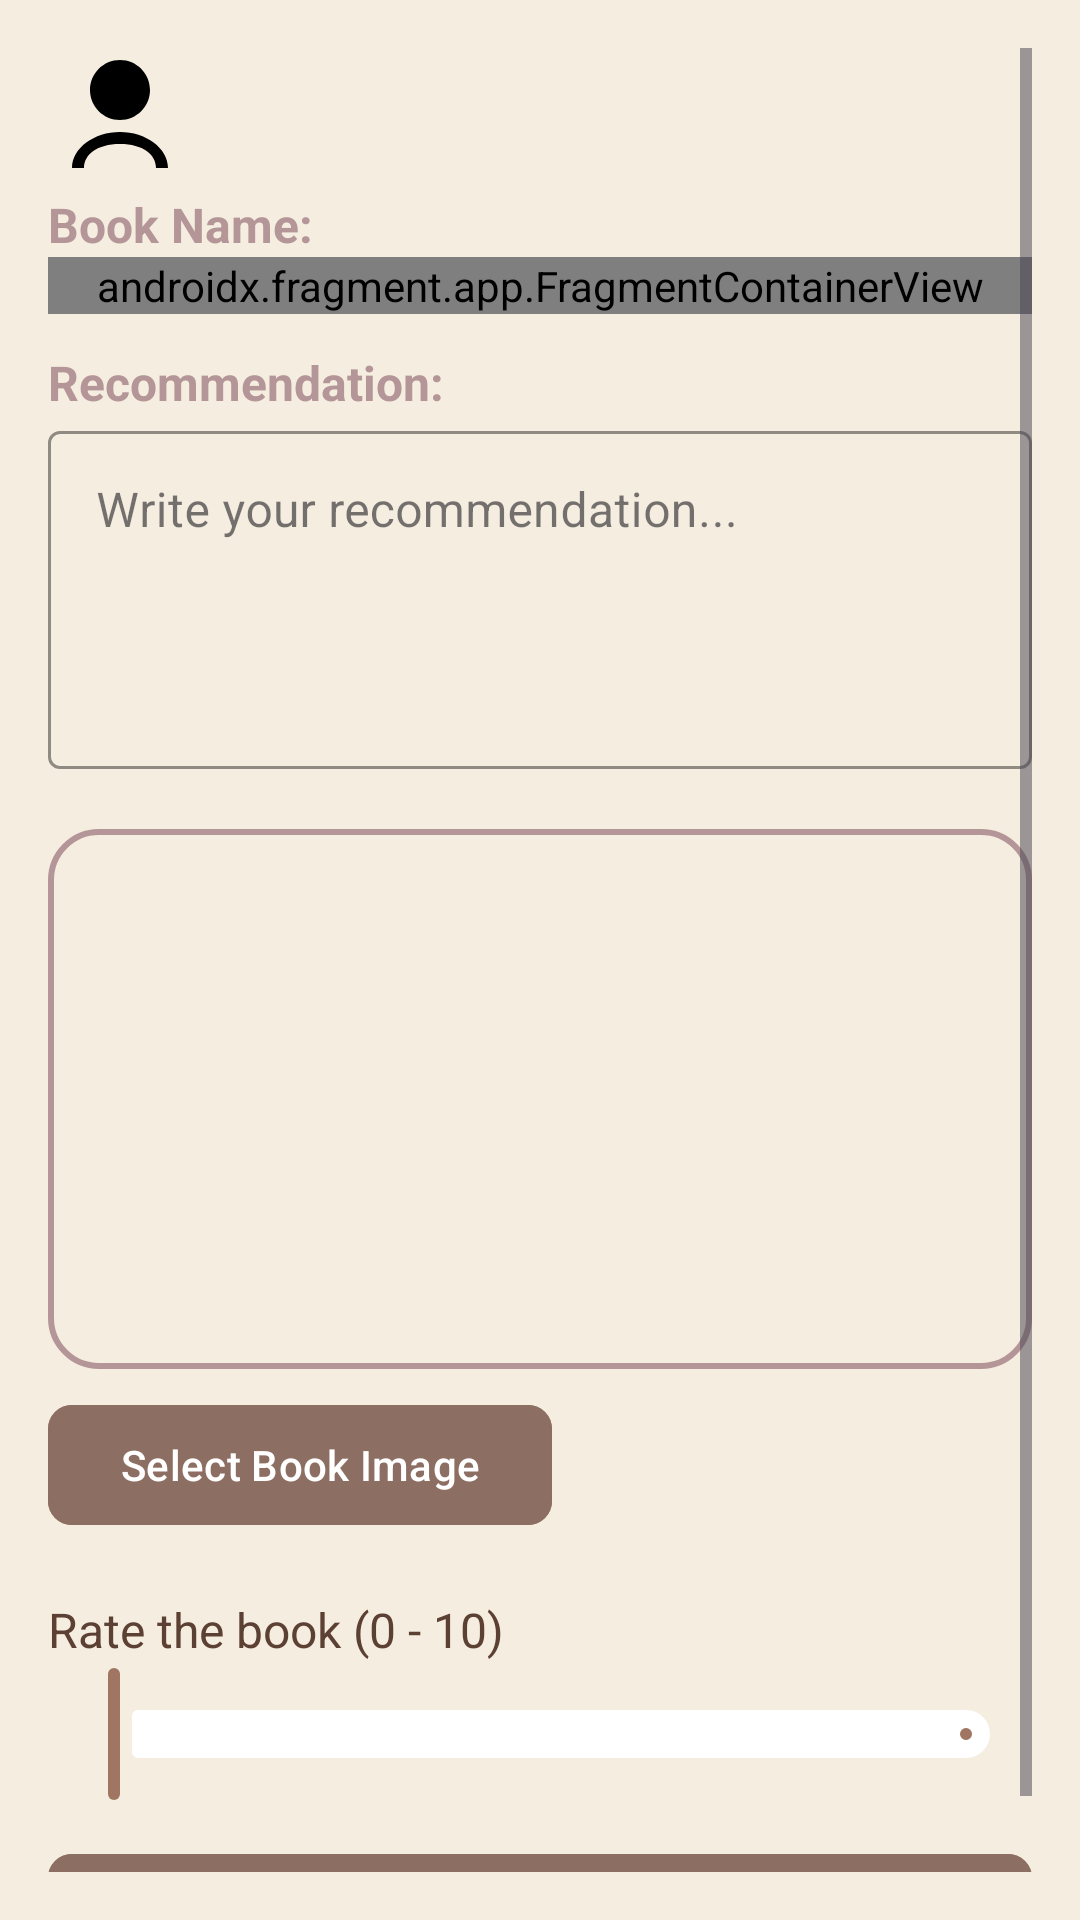

Where icons sit on this 1080*1920 app screen, as {"left": x1, "top": y1, "right": x2, "bottom": y2}:
profile: {"left": 72, "top": 60, "right": 168, "bottom": 168}
